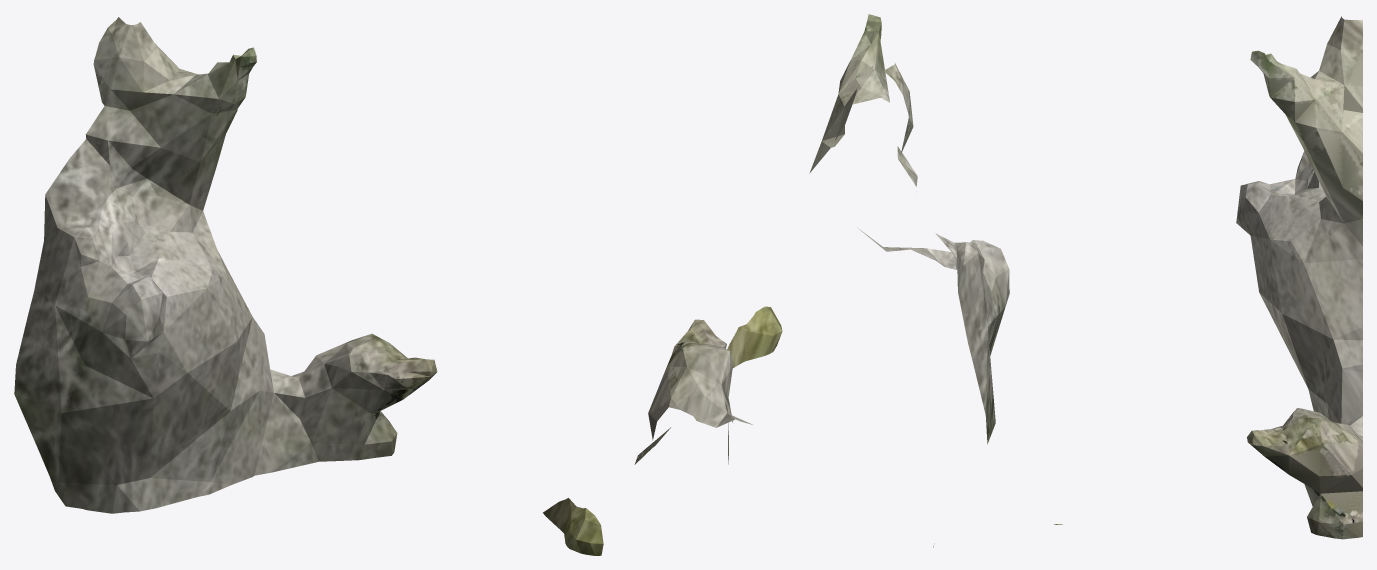
The picture shows the model from 3 angles, left to right: view 1: azimuth 30°, elevation 25°; view 2: azimuth 150°, elevation 25°; view 3: azimuth 270°, elevation 25°; orthographic projection. The views are drawn at different scales.
Bounding box in the file's own units: 5.21 × 5.9 × 4.19.
Materials: 2 (2 with a texture image).
